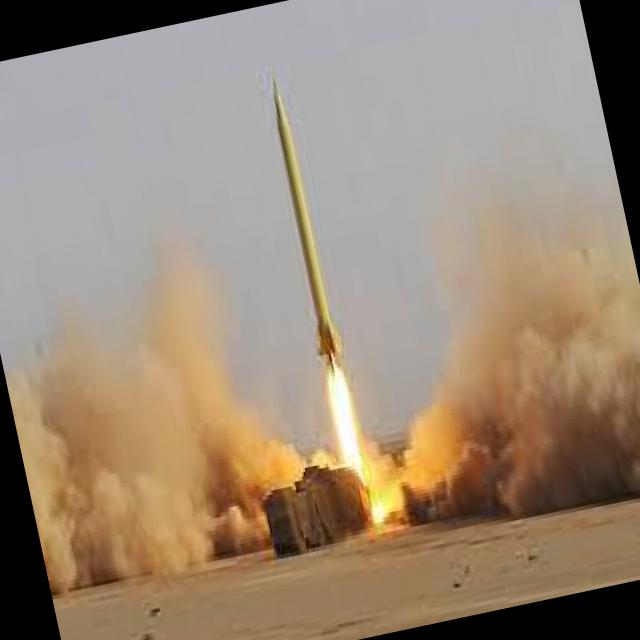rocket: (248, 69, 372, 490)
